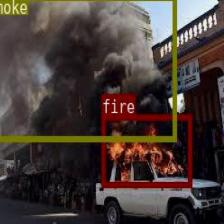fire: (101, 113, 191, 186)
smoke: (0, 0, 176, 140)
